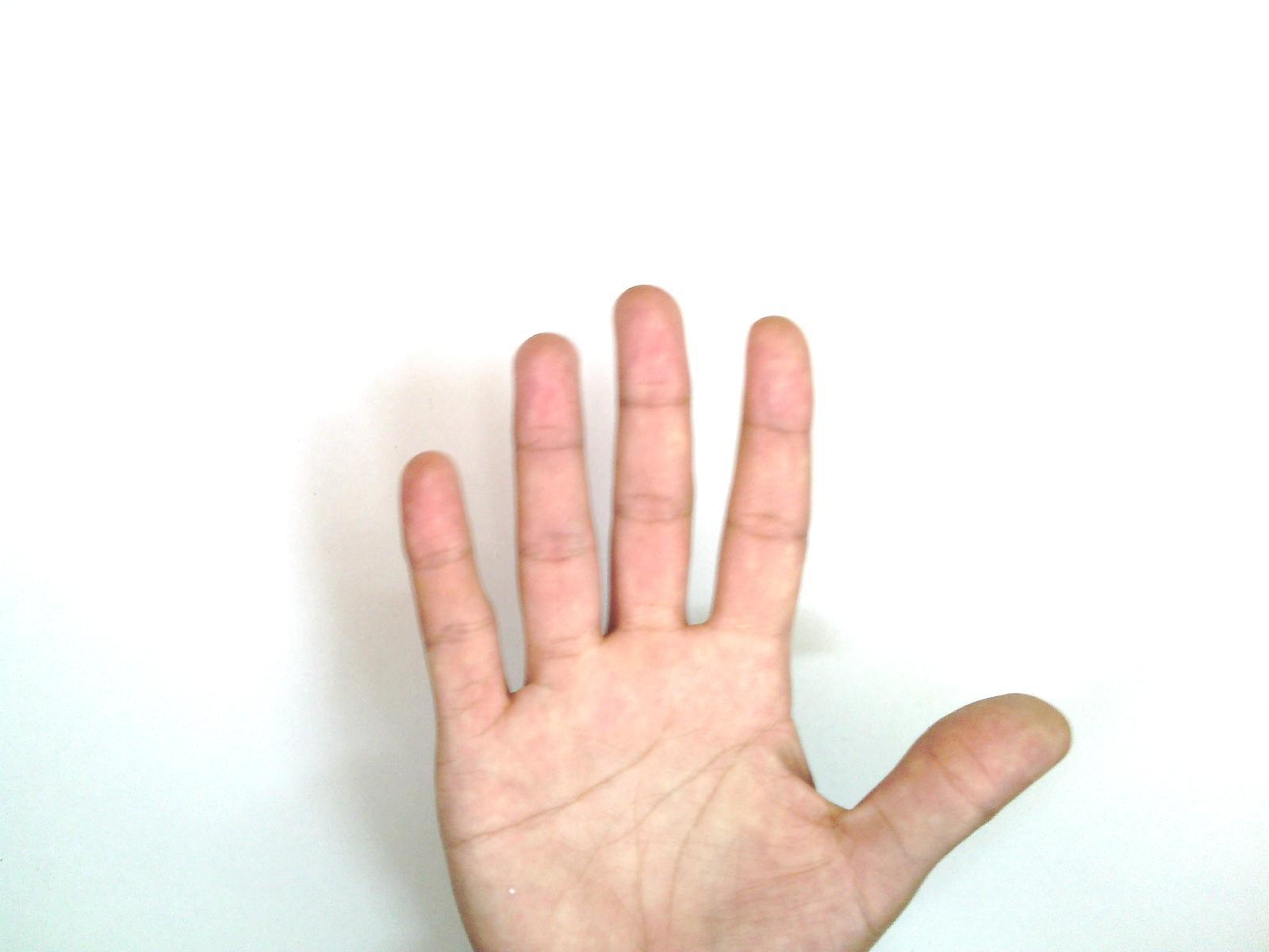open_palm: (394, 283, 1075, 951)
